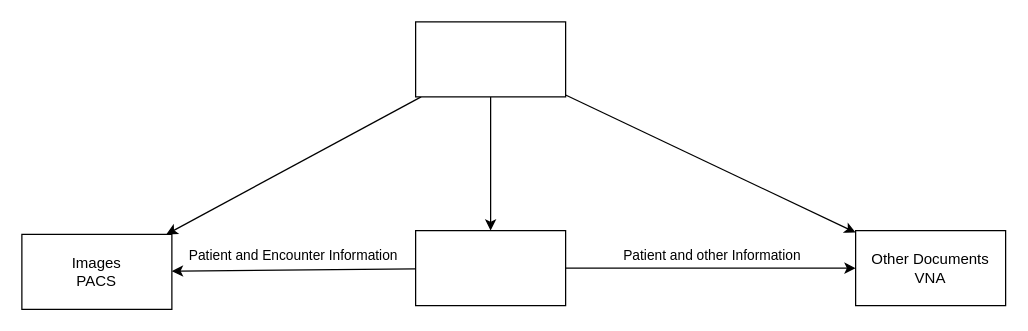
The diagram is 1028 pixels wide and 331 high, and some of its shapes have lost their labels. The box of each missing label's shape, as (x1, y1, x2, y2) in pixels:
Central Authority PMS: (414, 229, 566, 306)
Codes Translator Terminology Service: (414, 21, 566, 97)
